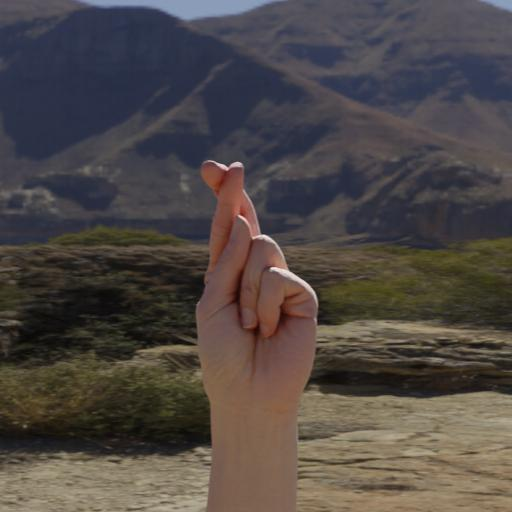R: (191, 156, 325, 416)
